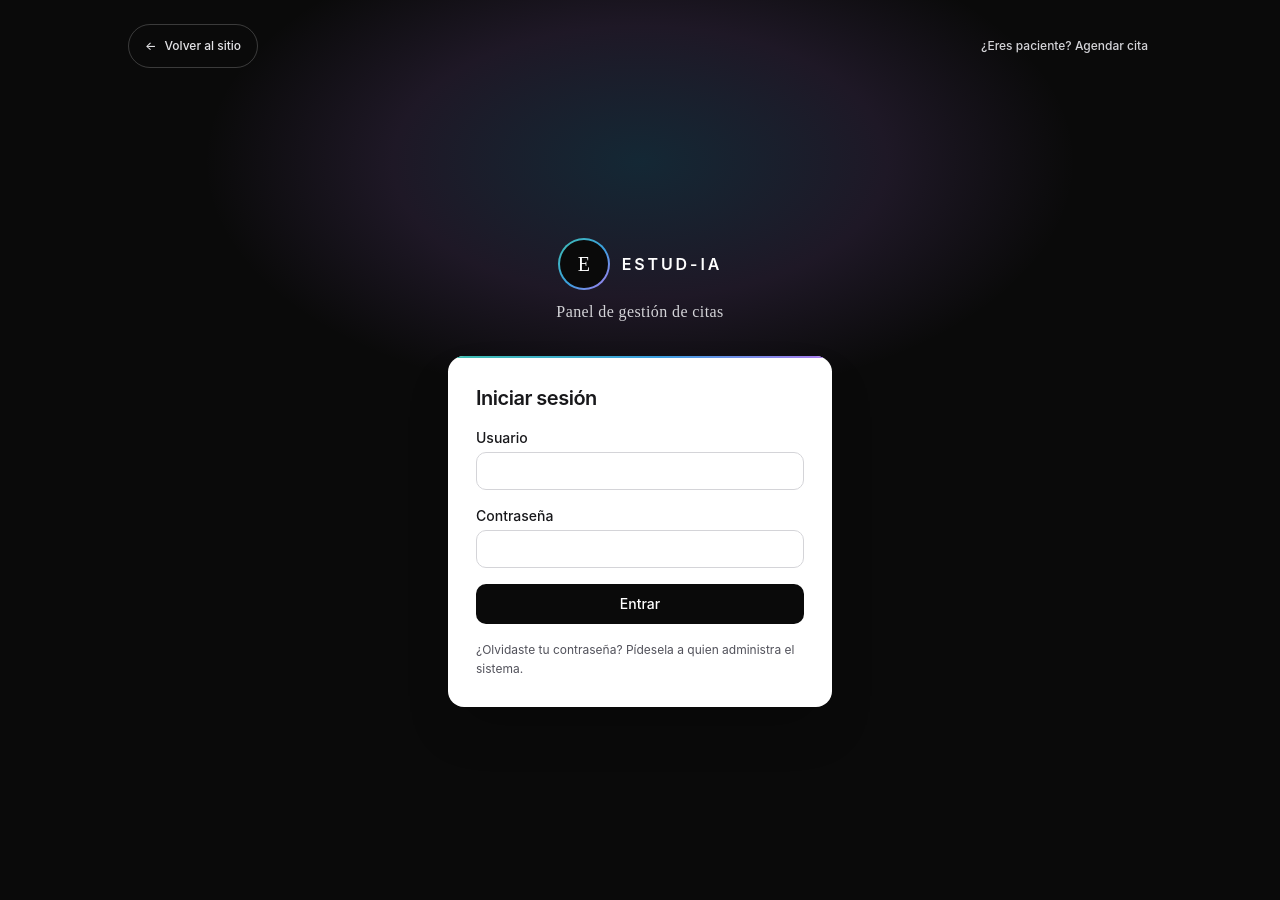
inicio de sesión › sin sesión lleva a iniciar sesión, sin mostrar datos, y vuelve al origen al entrar
The width and height of the screenshot is (1280, 900).
(page scrolled)
Check: the heading "Iniciar sesión" is shown, box [476,386,597,410]
Check: the text "Pacientes" is not shown
Type "recepcion" into the field labelled "Usuario".
click(640, 470); type("recepcion")  # box [476,452,804,490]
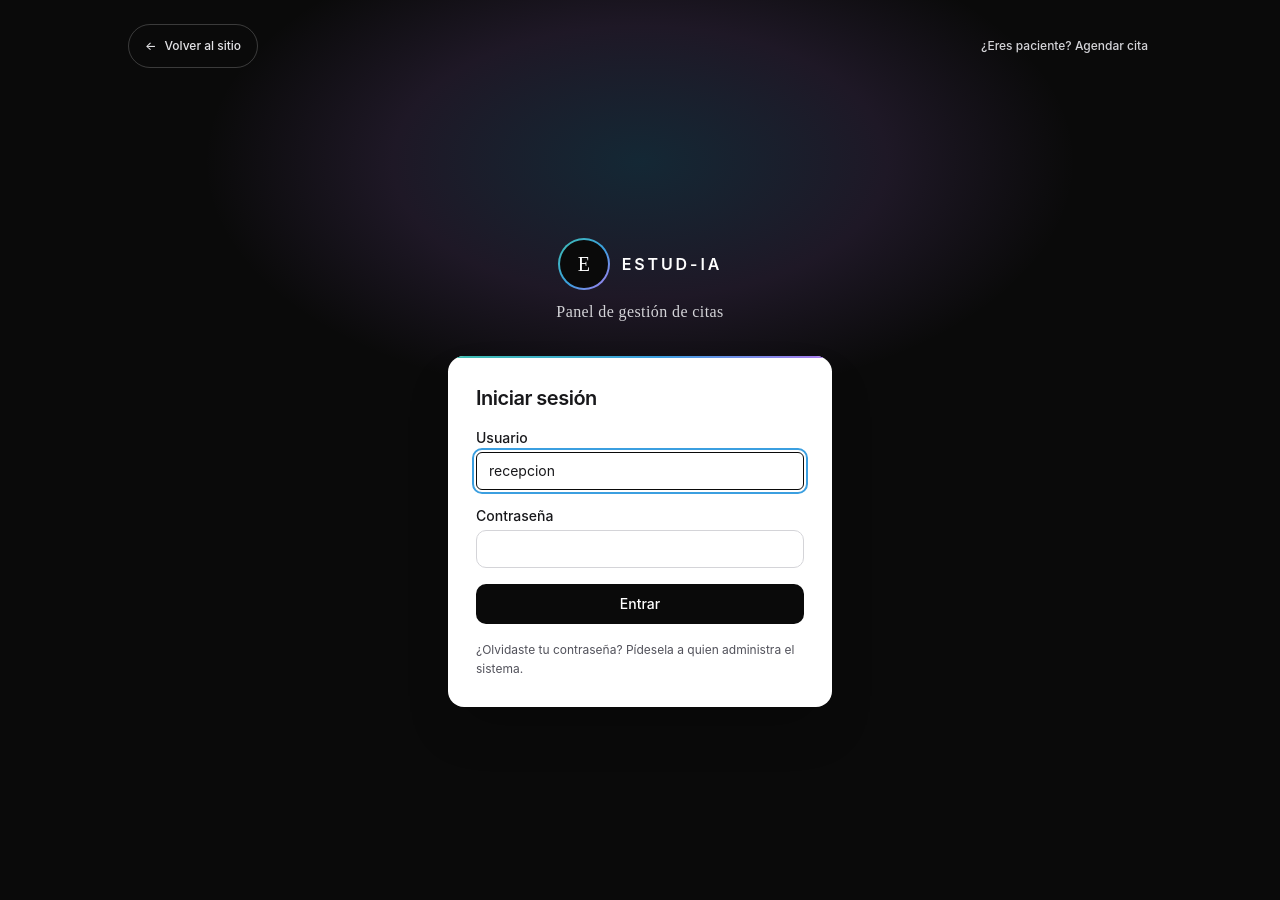
Type "clave-de-prueba" into the password field labelled "Contraseña".
click(640, 548); type("clave-de-prueba")  # box [476,530,804,568]
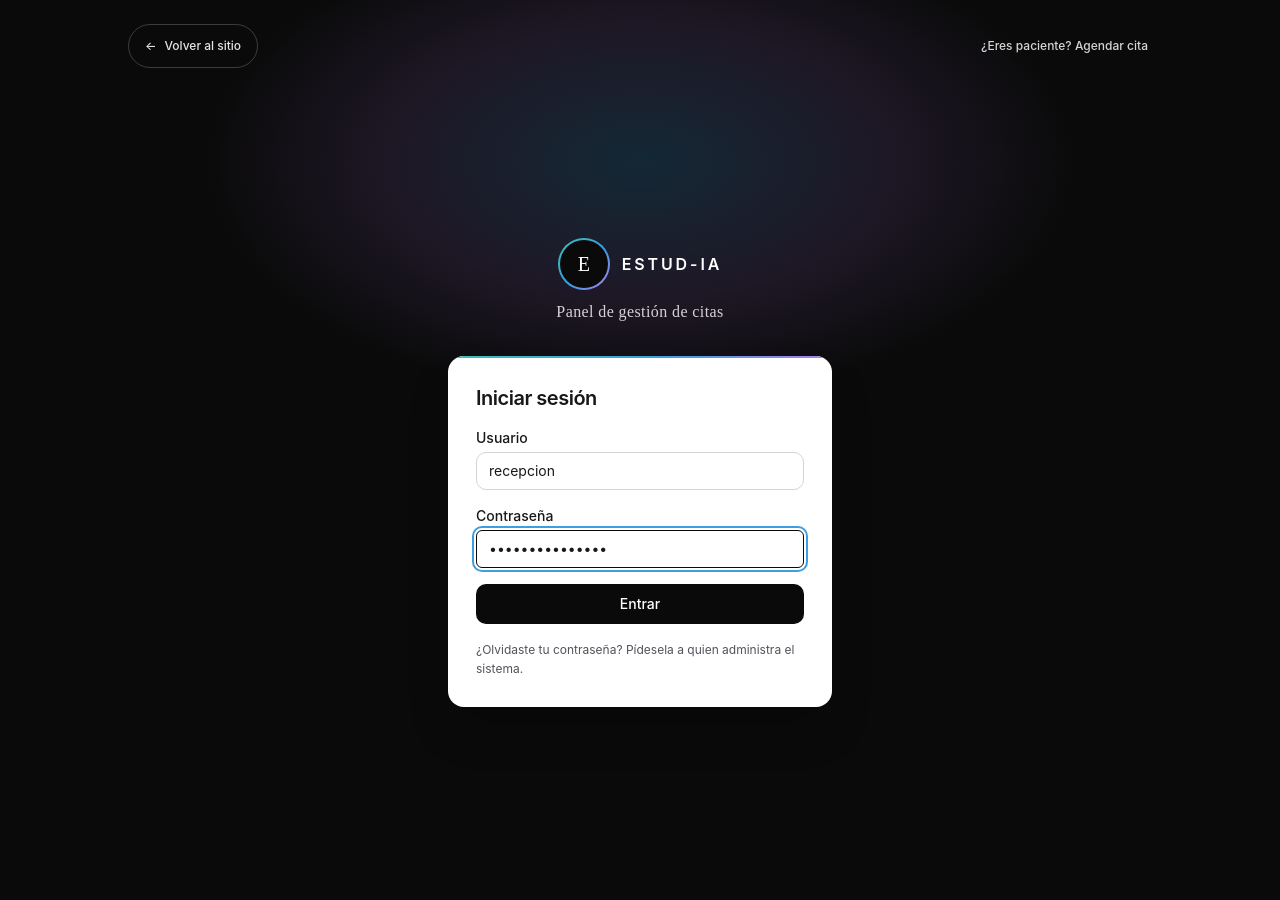
Click the button "Entrar".
click(640, 604)  # box [476,584,804,624]
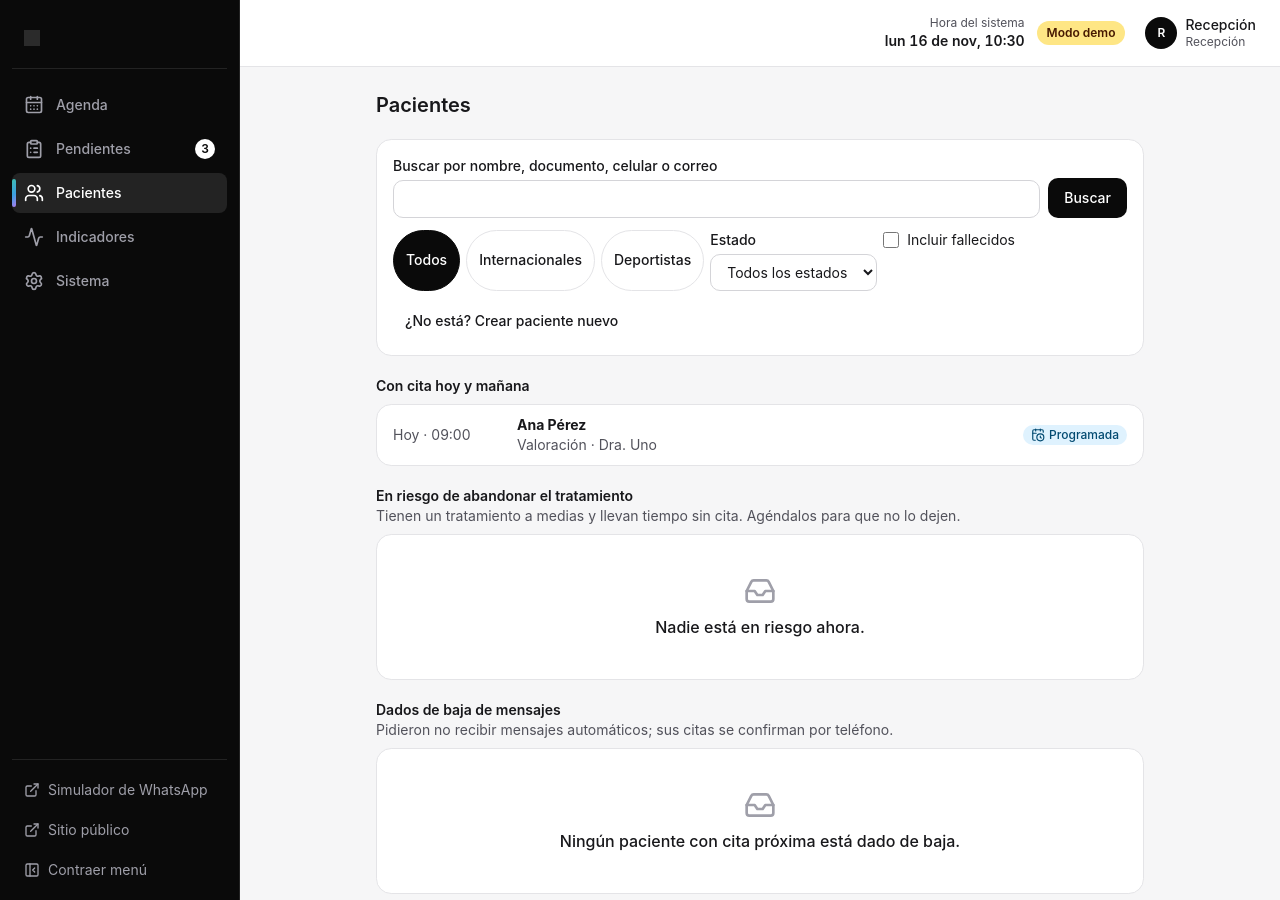
Check: the heading "Pacientes" is shown, box [376,92,471,116]
